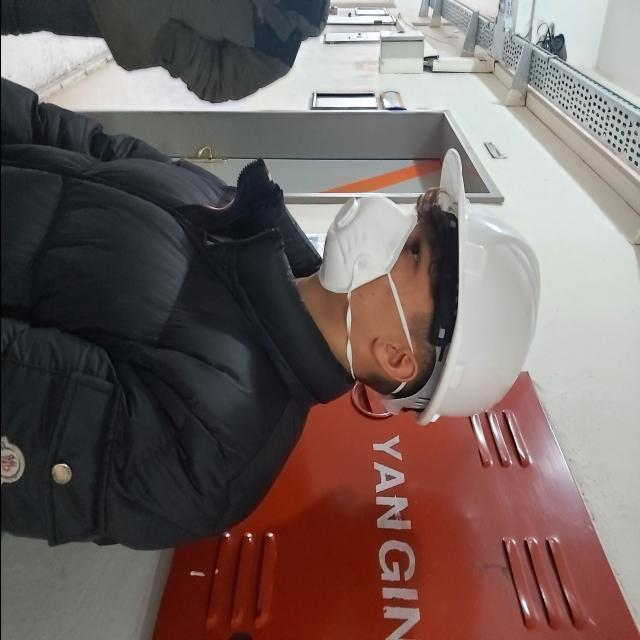white helmet: (431, 148, 551, 456)
